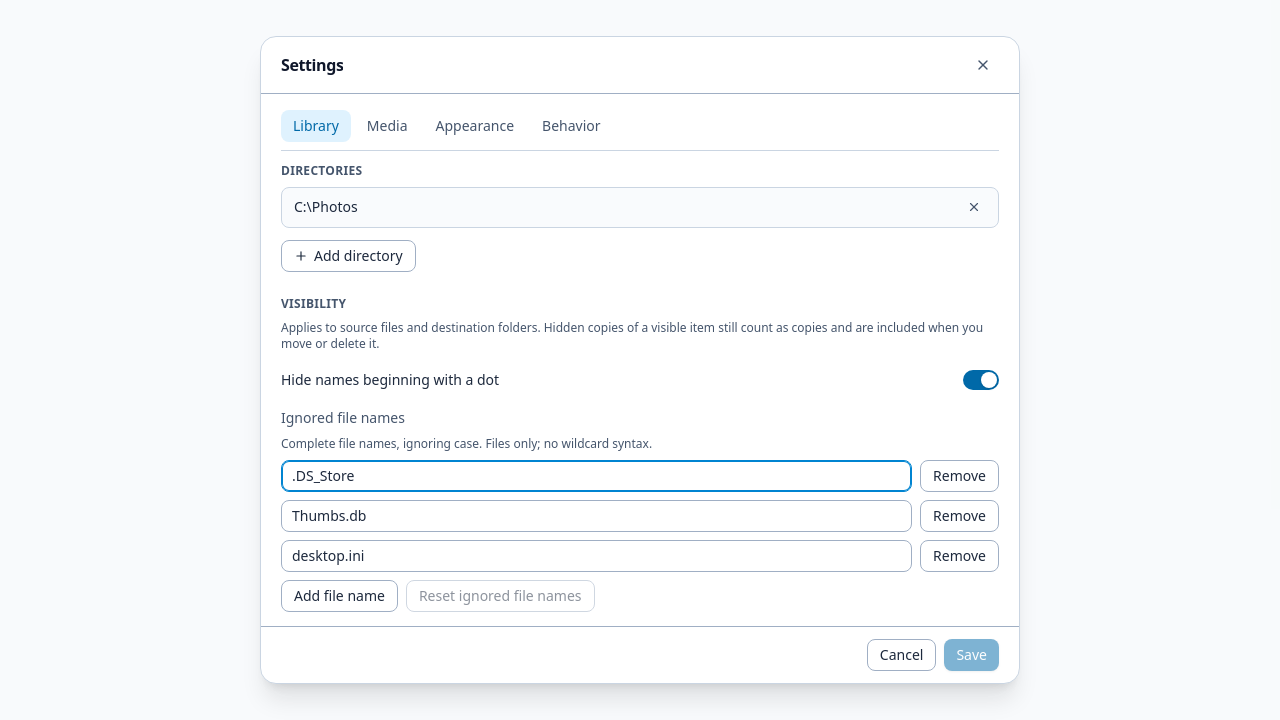
Test case: Settings categories › inerts only the moves that would run off the ends of the screen order
Click the tab "Appearance" at (475, 126), box 424,110 -> 526,142
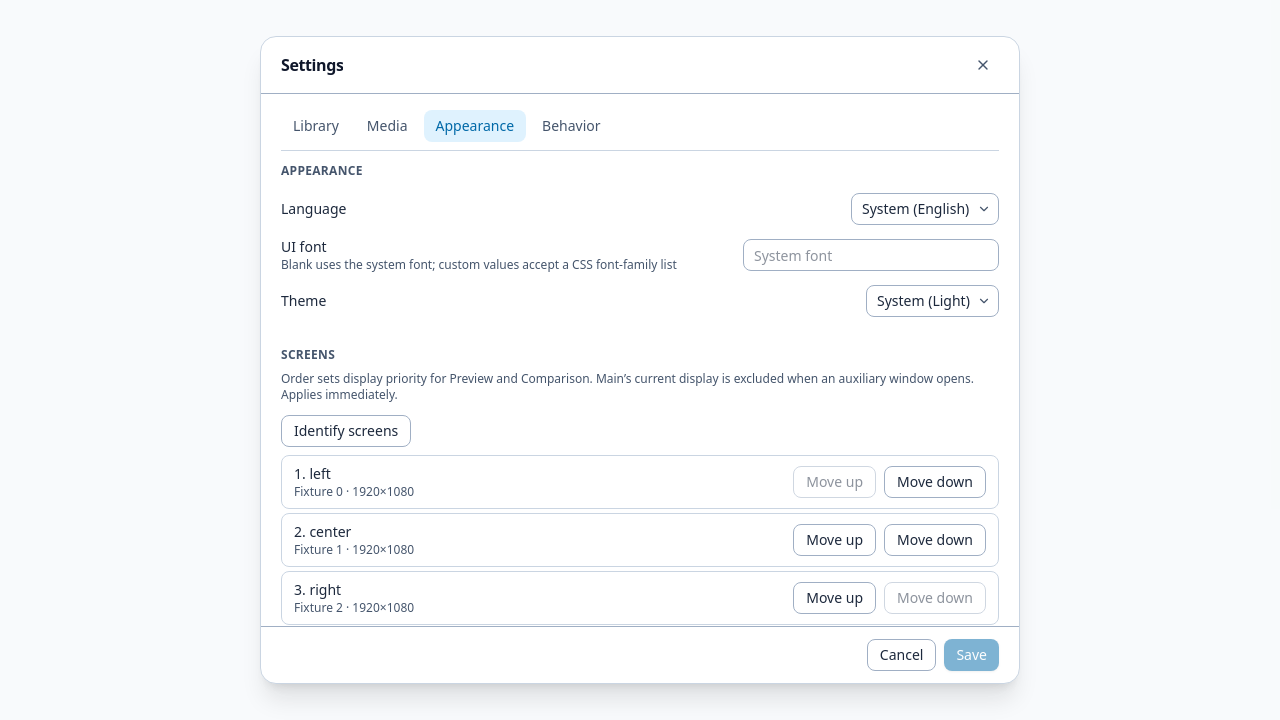
Expected: the button "Move up" in the row of "Fixture 0 · 1920×1080" is shown, 793,466 -> 876,498
